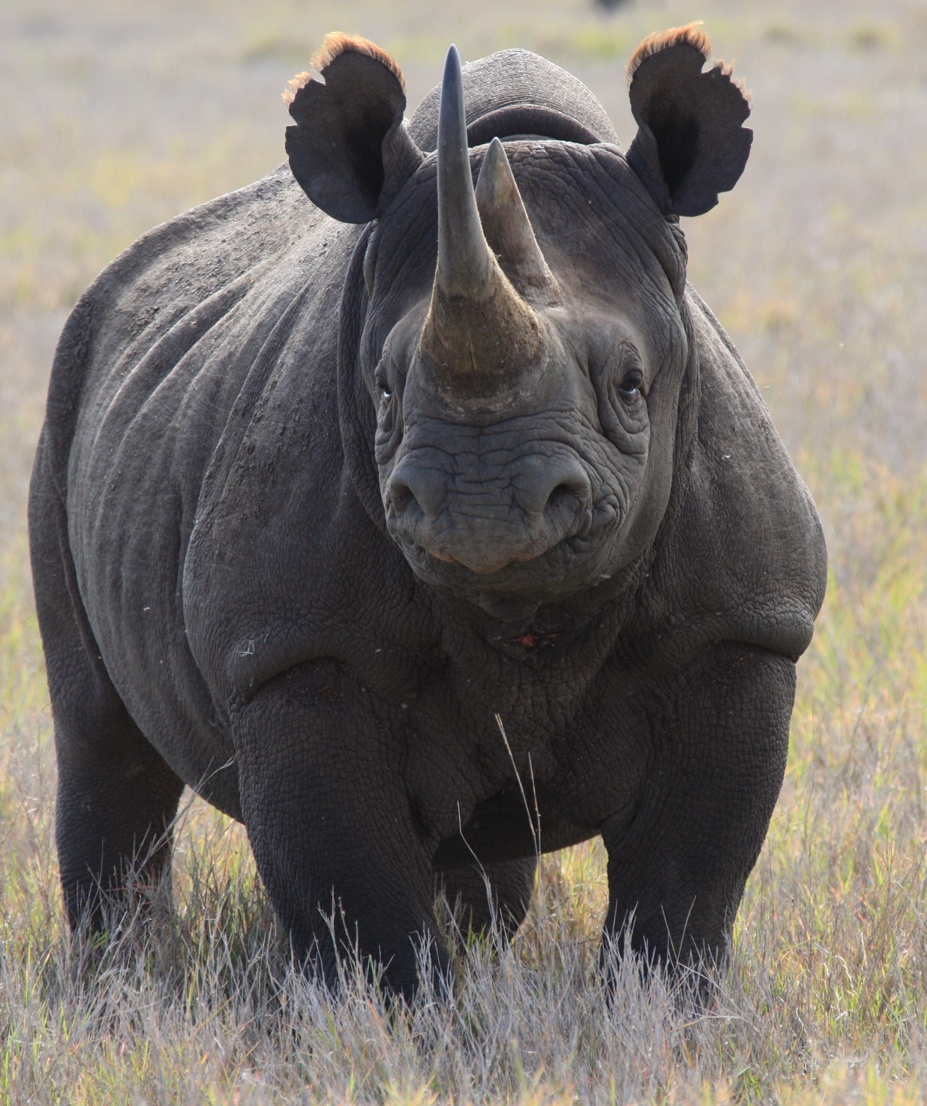rhino: (23, 25, 826, 1007)
